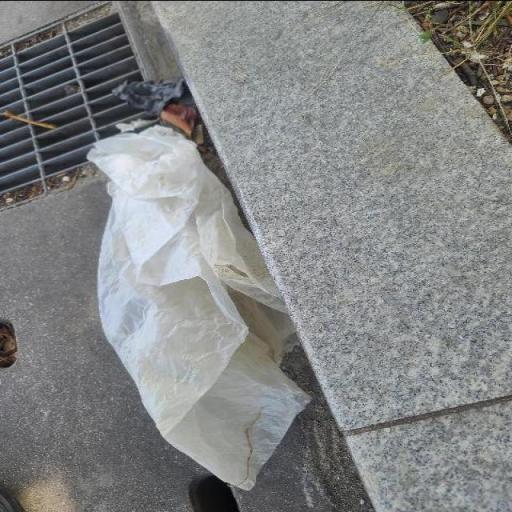plastic-bag: (84, 124, 312, 492)
